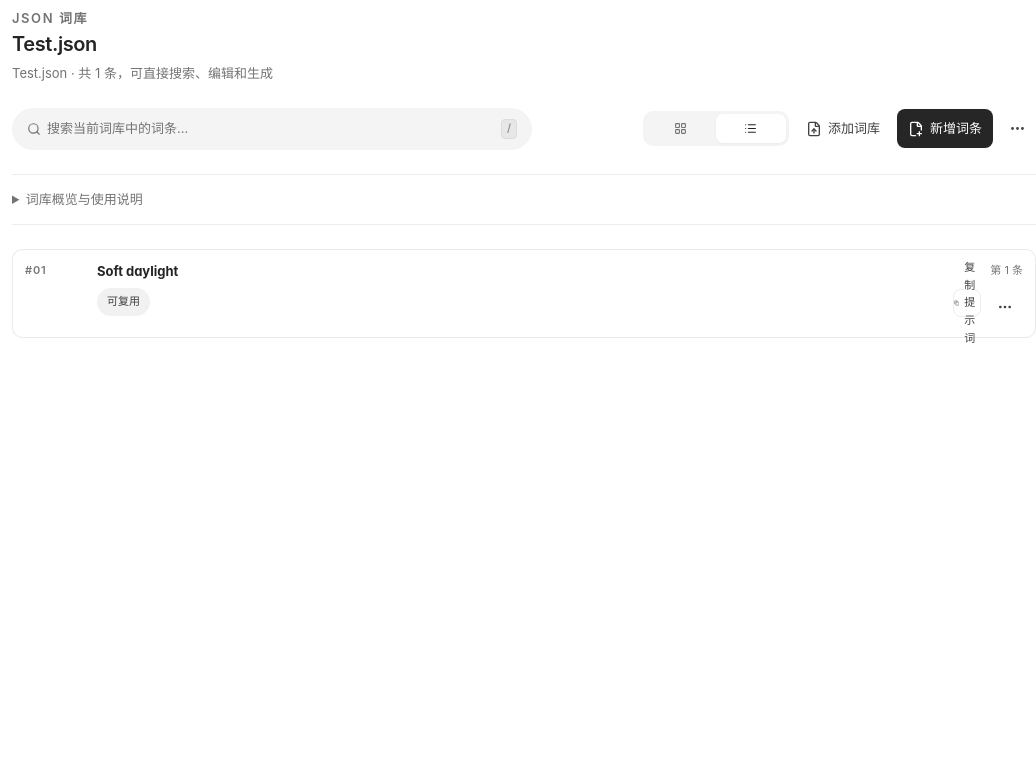
Test: library content-first workspace › shows entries and inline search before optional help
Expected: the heading "Soft daylight" is shown, [97,263,178,279]
Expected: the field labelled "搜索当前词库中的词条..." is shown, [47,118,501,139]
Step 1. Click the heading "词库概览与使用说明" → click(84, 199), box [26,191,143,207]
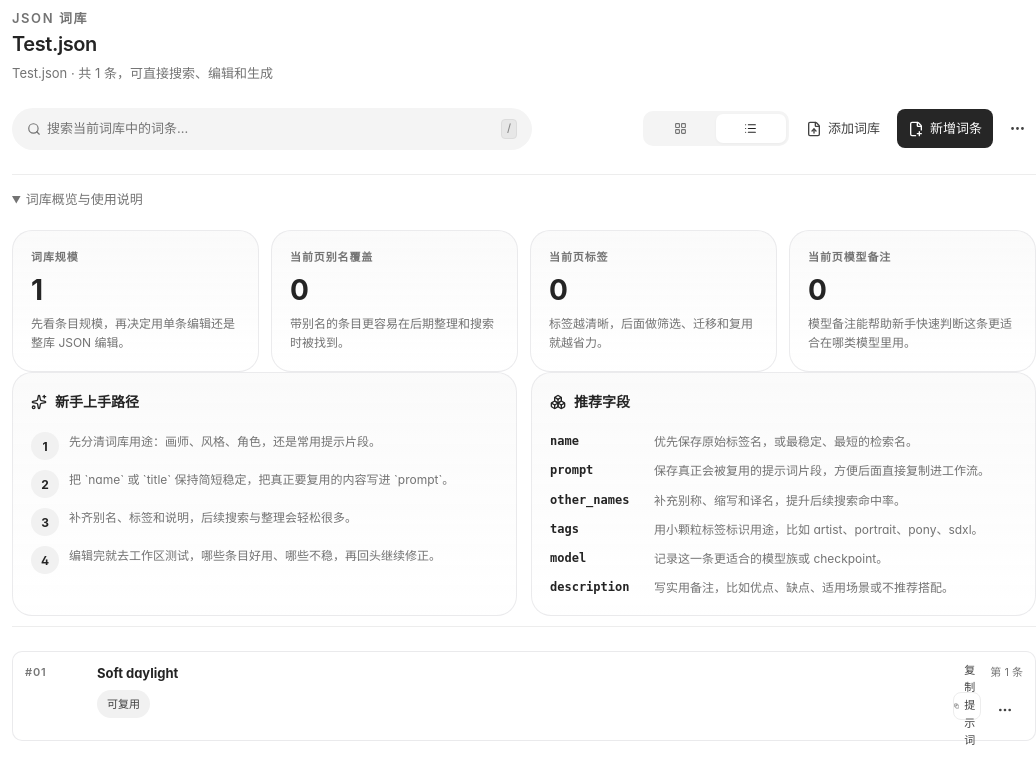
Expected: the text "先看条目规模，再决定用单条编辑还是整库 JSON 编辑。" is shown, [31,314,240,353]
